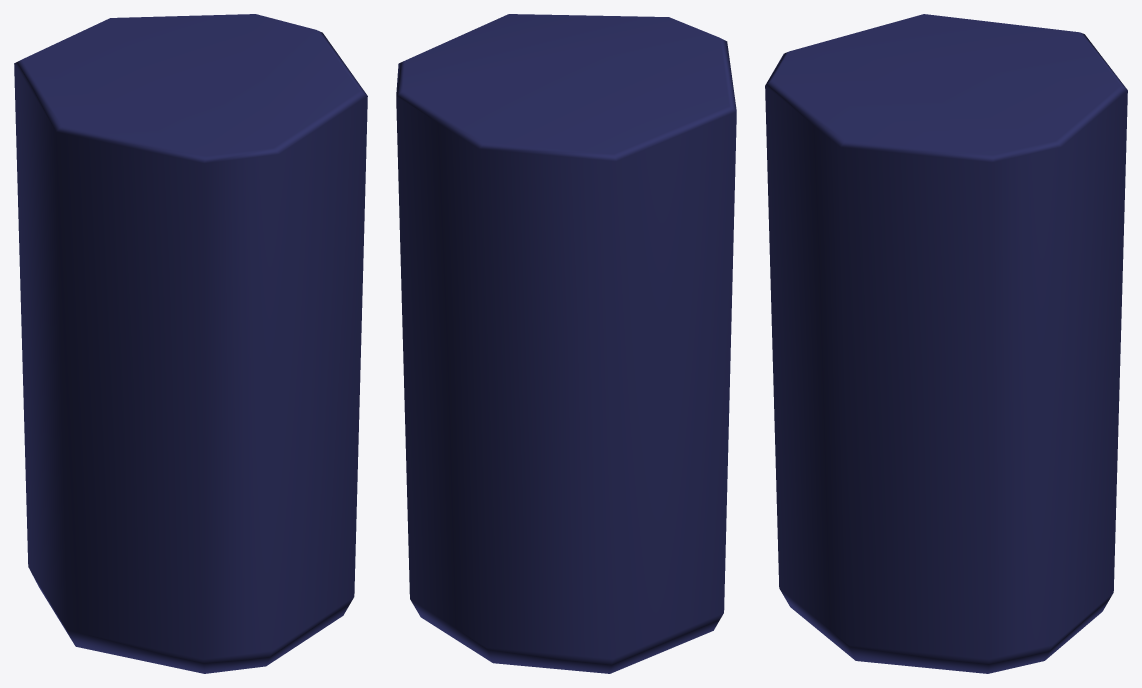
File: platform2.fbx
3 renders of one model, left to right at view 1: azimuth 30°, elevation 25°; view 2: azimuth 150°, elevation 25°; view 3: azimuth 270°, elevation 25°, orthographic.
Parts seen in each view (by area): view 1: platform2; view 2: platform2; view 3: platform2.
Part boxes in pixels (x1,y1,x2,y2): platform2: (14, 14, 367, 673); platform2: (396, 14, 736, 673); platform2: (765, 14, 1127, 673).
Size of the model in its own units: 240 by 400 by 250.
